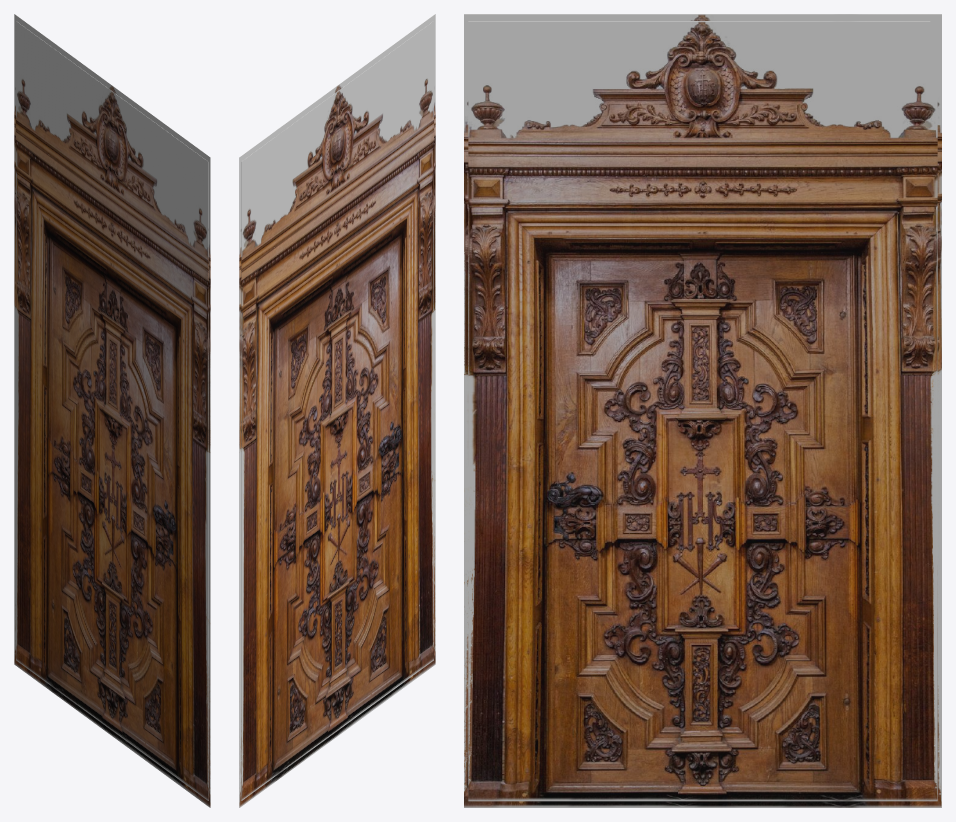
File: 43 - Portal z prezbiterium do zakrystii skrzydło drzwi.glb
3 views of the same model, side by side, from view 1: azimuth 30°, elevation 25°; view 2: azimuth 150°, elevation 25°; view 3: azimuth 270°, elevation 25° (orthographic). The views are drawn at different scales.
Parts seen in each view (by area): view 1: Plane; view 2: Plane; view 3: Plane.
Part boxes in pixels (x1=…): Plane: x1=14, y1=14, x2=210, y2=807; Plane: x1=239, y1=14, x2=435, y2=807; Plane: x1=464, y1=14, x2=941, y2=807.
Bounding box in the file's own units: 0.0246 × 22 × 12.
Materials: 1 (1 with a texture image).
